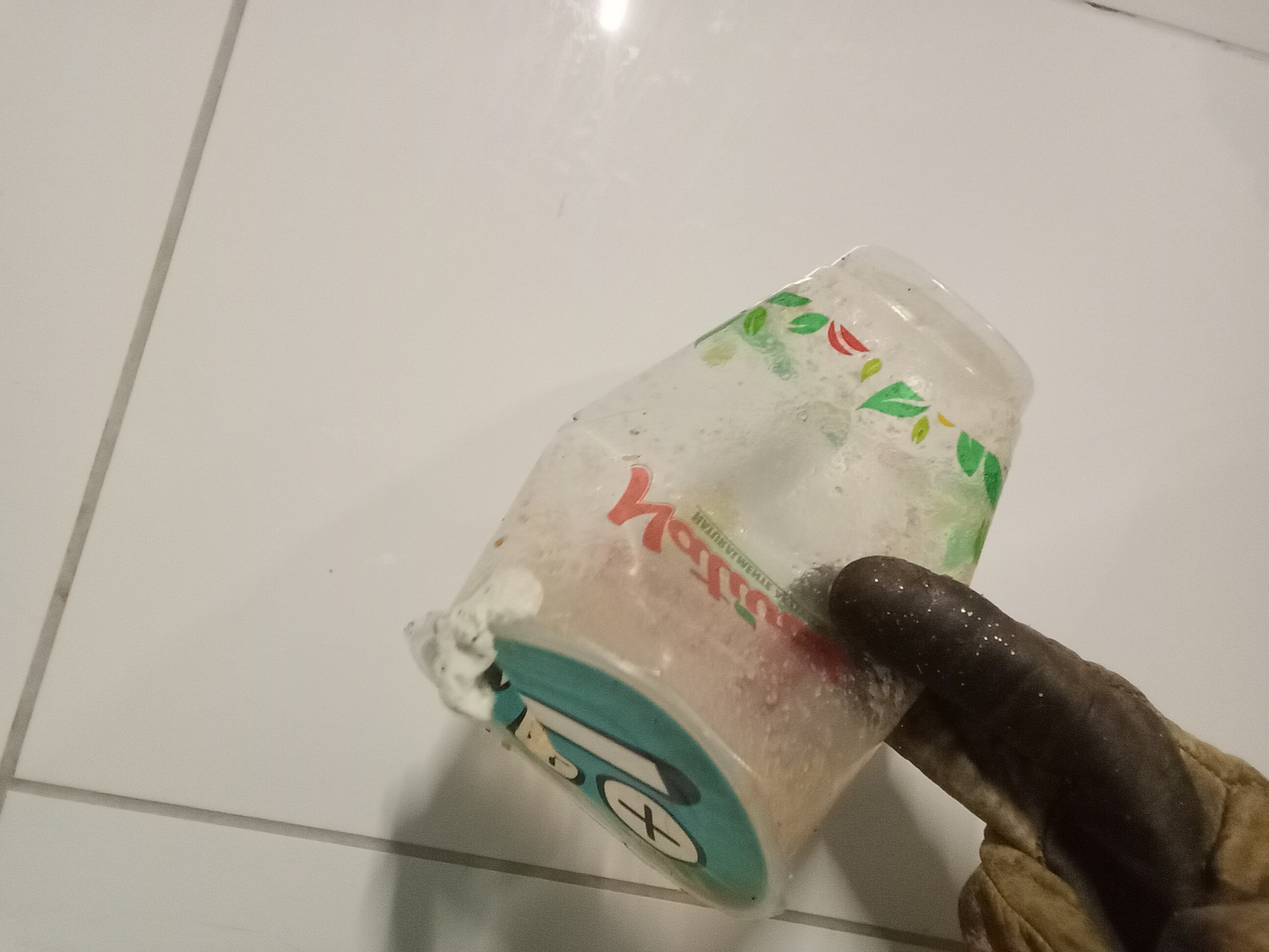Plastico: (401, 247, 1035, 927)
